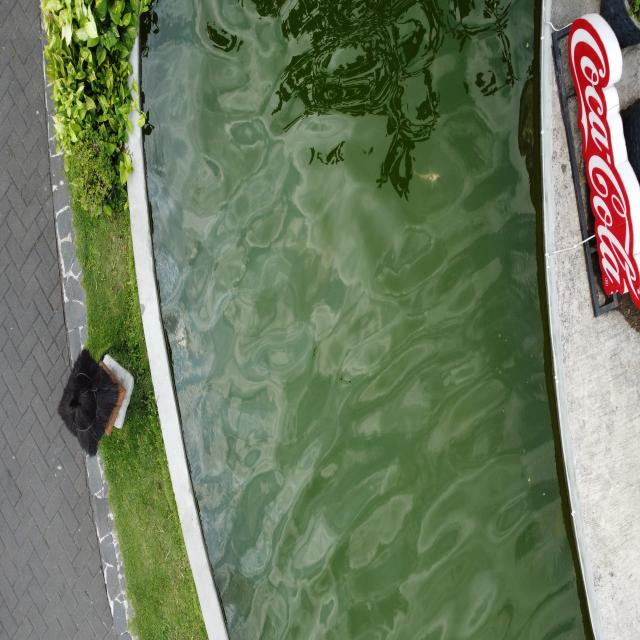Ponds: (125, 1, 639, 640)
